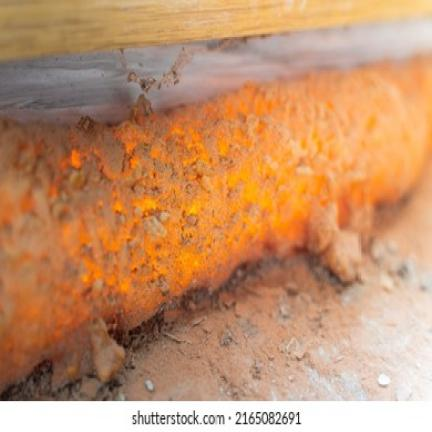karat: (1, 57, 431, 389)
